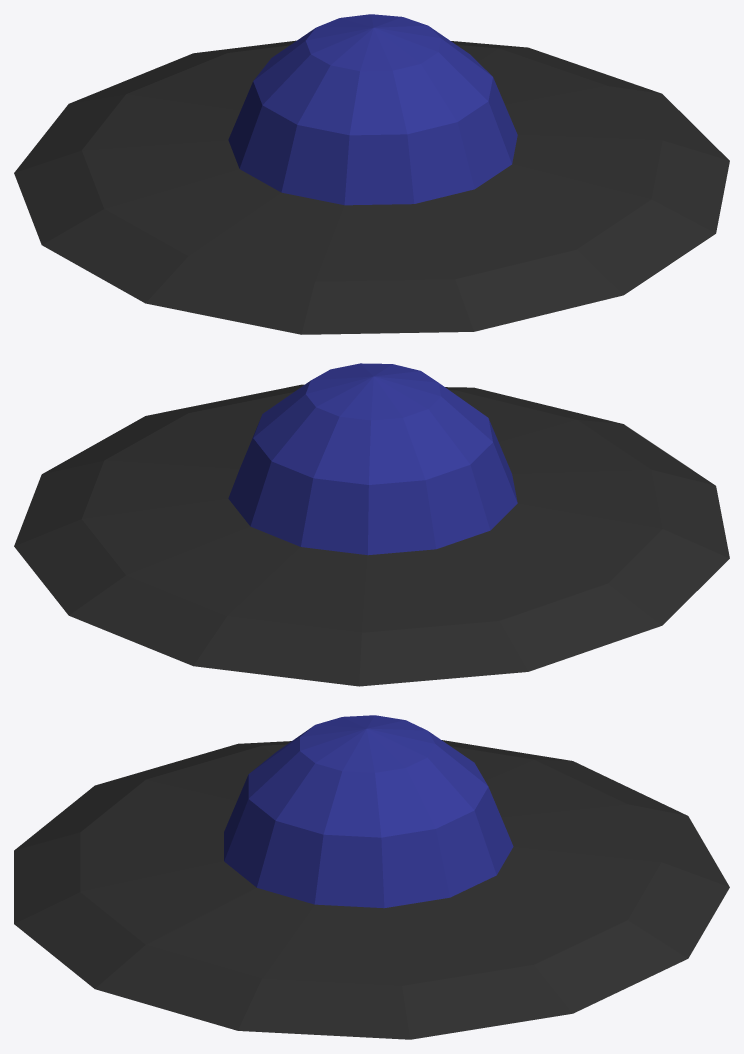
The model's file is Ufo_1.fbx.
The picture shows the model from 3 angles, top to bottom: view 1: azimuth 30°, elevation 25°; view 2: azimuth 150°, elevation 25°; view 3: azimuth 270°, elevation 25°; orthographic projection.
Parts seen in each view (by area): view 1: Ufo_1; view 2: Ufo_1; view 3: Ufo_1.
Boxes of the visible parts, x1=… form: Ufo_1: x1=14, y1=14, x2=729, y2=334; Ufo_1: x1=14, y1=363, x2=729, y2=686; Ufo_1: x1=14, y1=715, x2=729, y2=1039.
Size of the model in its own units: 50.84 by 16.92 by 50.47.
